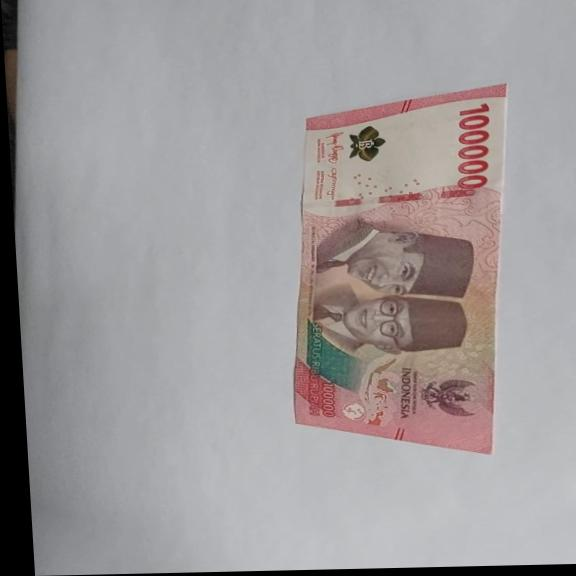Kertas: (274, 83, 531, 460), (450, 102, 497, 191)
